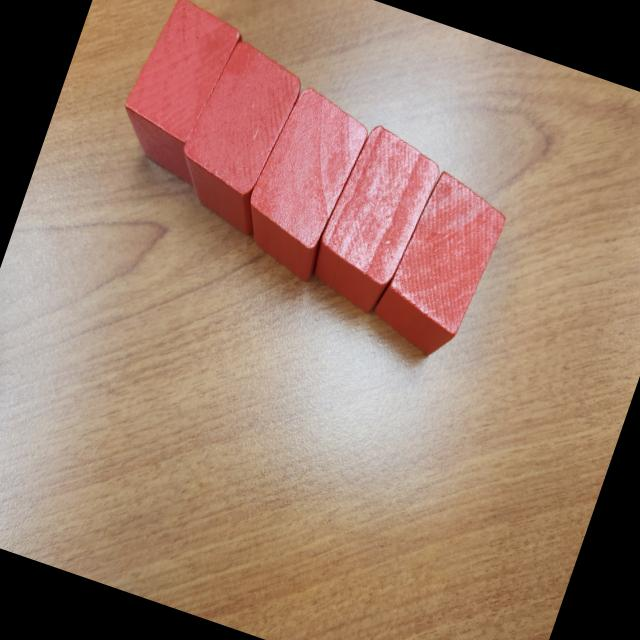red: (364, 163, 515, 367), (228, 79, 376, 287), (301, 116, 448, 322), (162, 34, 310, 238), (107, 0, 249, 185)
